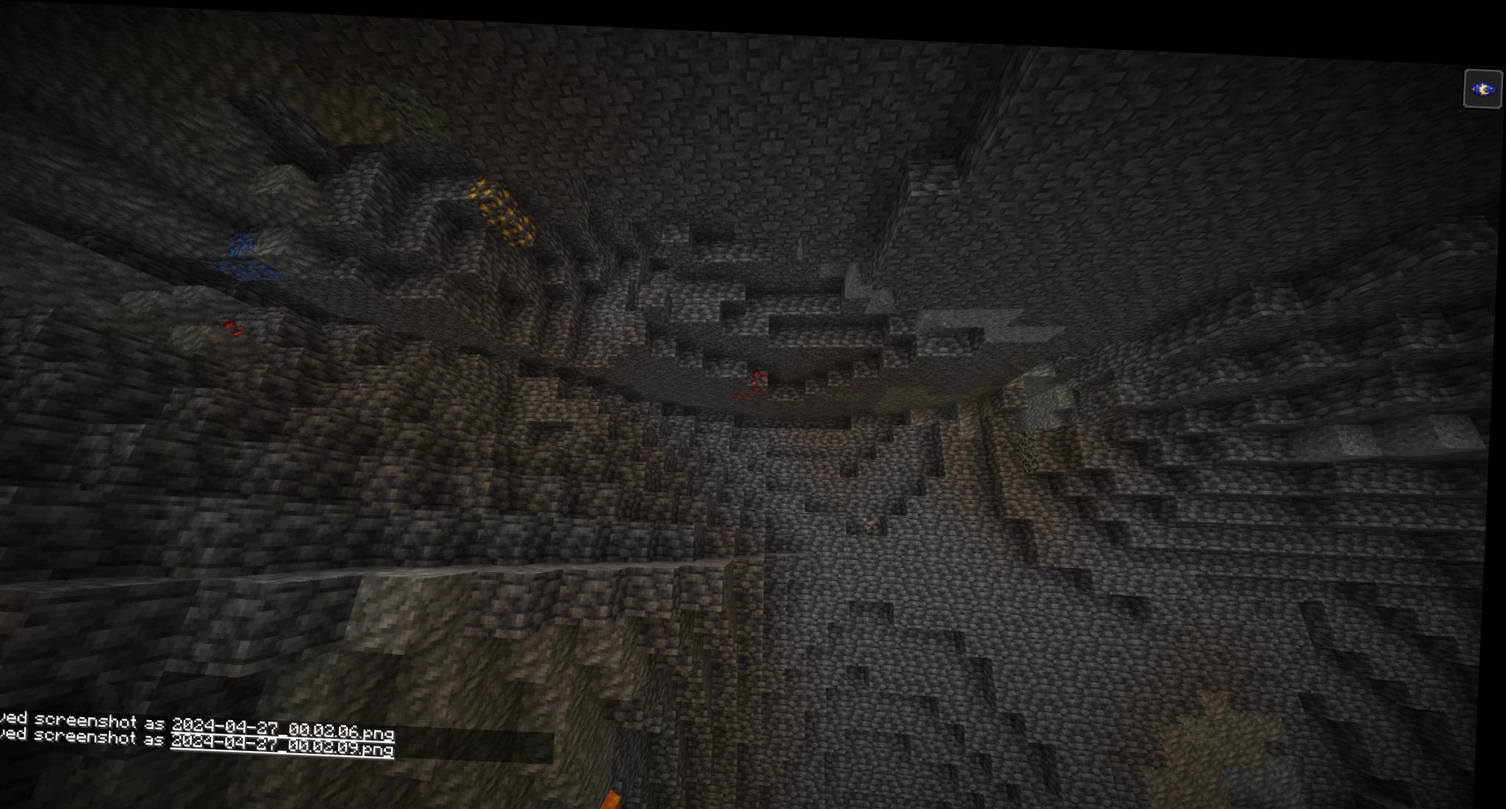gold ore: (466, 177, 517, 218), (501, 206, 541, 244)
redstone ore: (735, 363, 772, 400)
